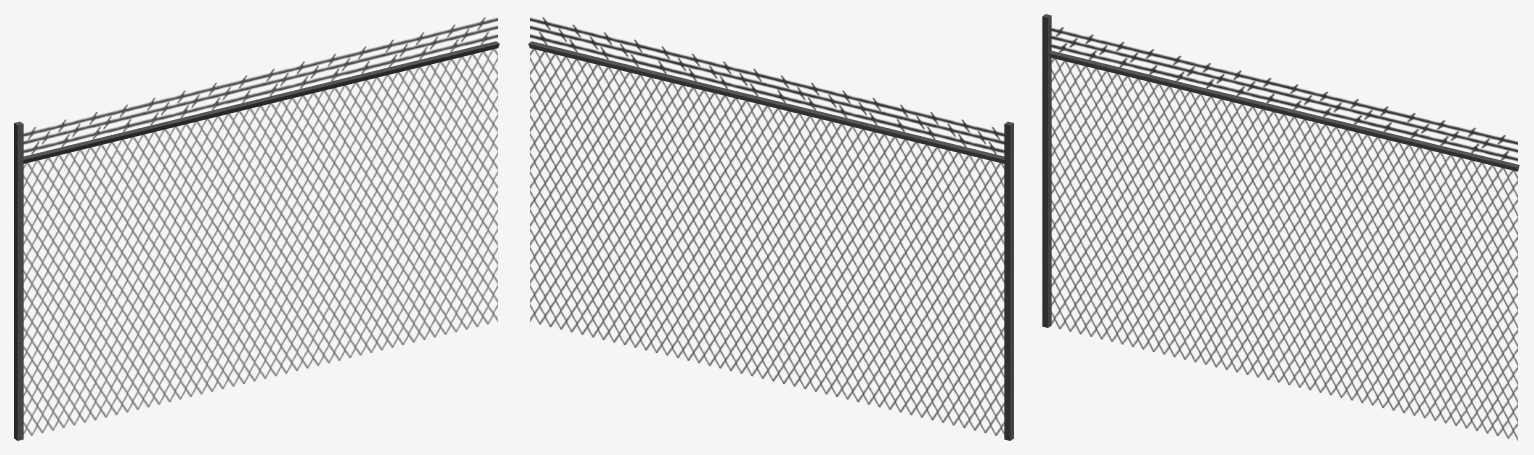
The model's file is MFence1.glb.
3 views of the same model, side by side, from view 1: azimuth 30°, elevation 25°; view 2: azimuth 150°, elevation 25°; view 3: azimuth 330°, elevation 25° (orthographic).
Parts seen in each view (by area): view 1: _MFence1; view 2: _MFence1; view 3: _MFence1.
Boxes of the visible parts, bbox=[...] form: _MFence1: bbox=[14, 17, 499, 440]; _MFence1: bbox=[528, 17, 1013, 440]; _MFence1: bbox=[1042, 14, 1519, 440].
Size of the model in its own units: 8 by 5 by 0.104.
1 material, 1 textured.
